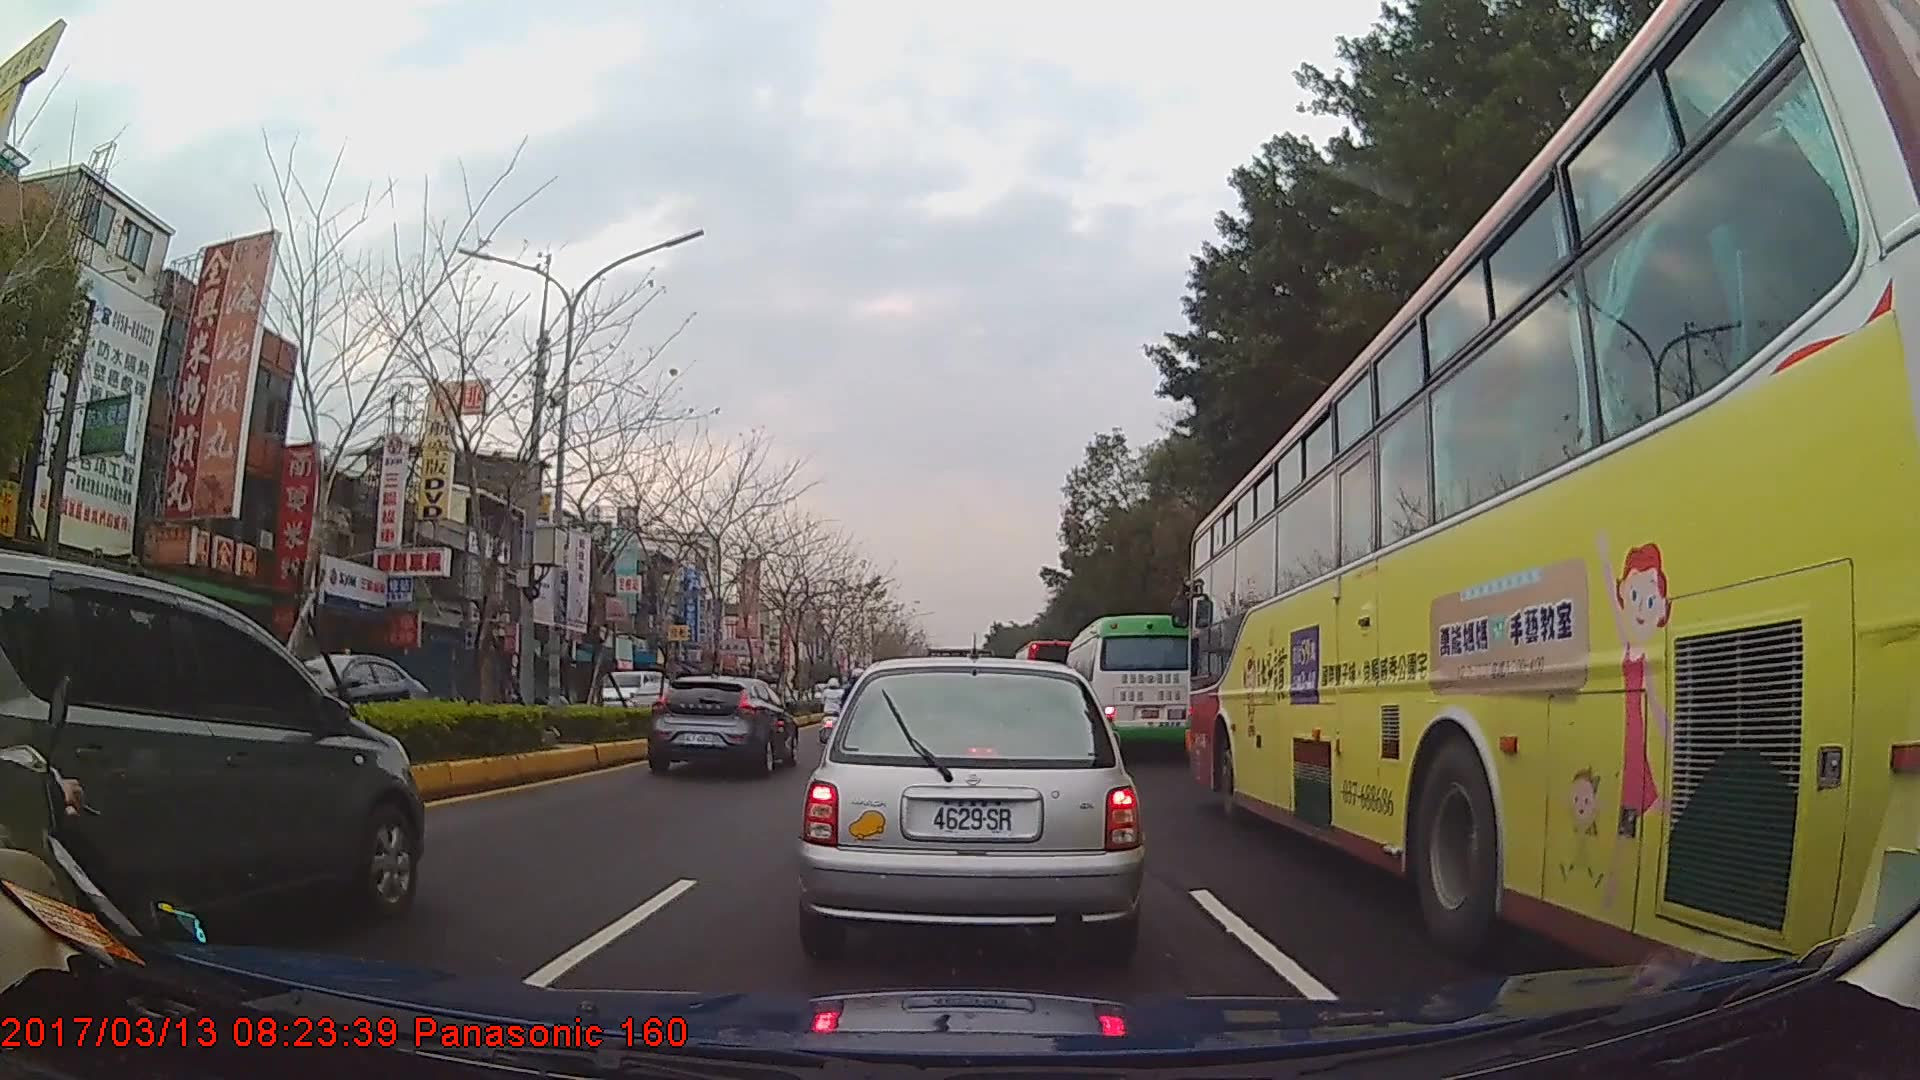rider: (1, 480, 209, 1054), (818, 677, 850, 747)
vehicle: (1186, 0, 1920, 987), (0, 547, 424, 935), (802, 652, 1144, 966), (1061, 613, 1197, 760), (229, 649, 432, 742), (642, 672, 799, 777)
